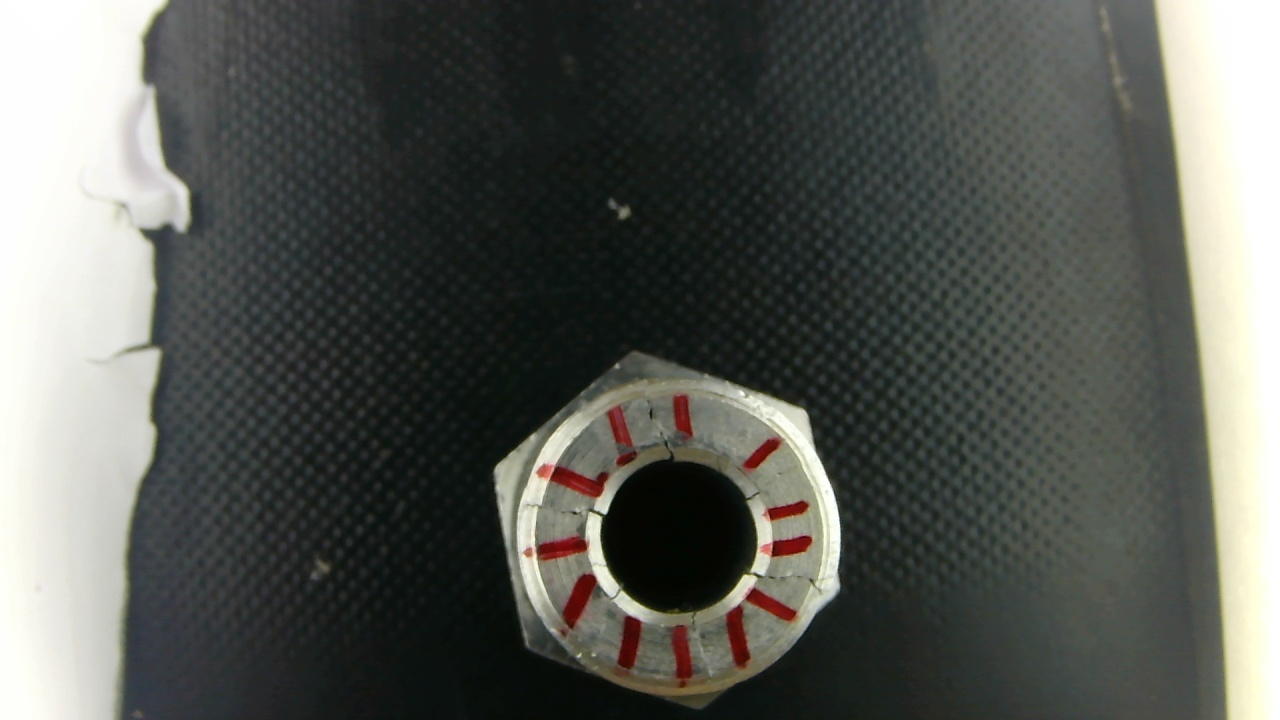crack: (501, 493, 623, 520)
